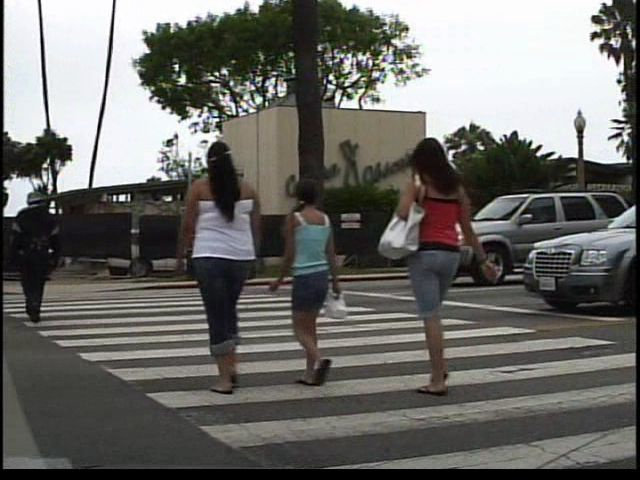person: (400, 129, 505, 396), (184, 134, 281, 407), (279, 170, 353, 395), (10, 180, 77, 332)
